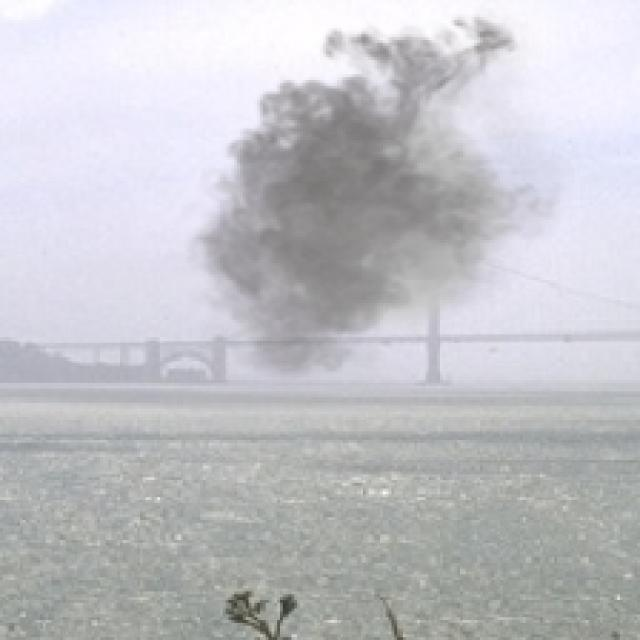Smoke: (171, 2, 586, 394)
